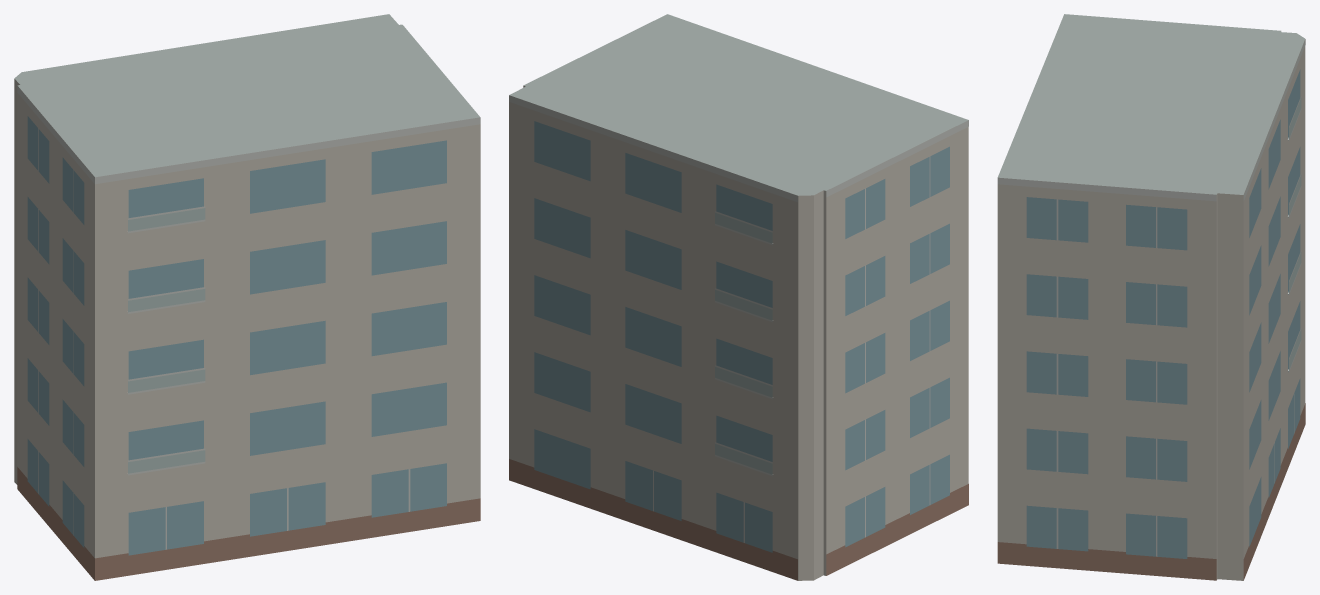
Rendered from survey-upis-32700149.glb.
3 views of the same model, side by side, from view 1: azimuth 30°, elevation 25°; view 2: azimuth 150°, elevation 25°; view 3: azimuth 270°, elevation 25° (orthographic). The views are drawn at different scales.
Parts seen in each view (by area): view 1: survey-upis-32700149.tmp; view 2: survey-upis-32700149.tmp; view 3: survey-upis-32700149.tmp.
Part boxes in pixels (x1,y1,x2,y2): survey-upis-32700149.tmp: (14, 14, 480, 580); survey-upis-32700149.tmp: (509, 14, 968, 580); survey-upis-32700149.tmp: (997, 14, 1305, 580).
Size of the model in its own units: 14.24 by 14.15 by 10.24.
